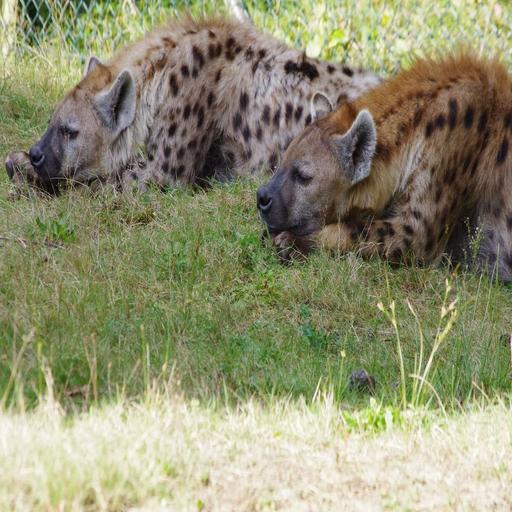Hyena: (0, 14, 512, 208), (248, 43, 512, 285)
